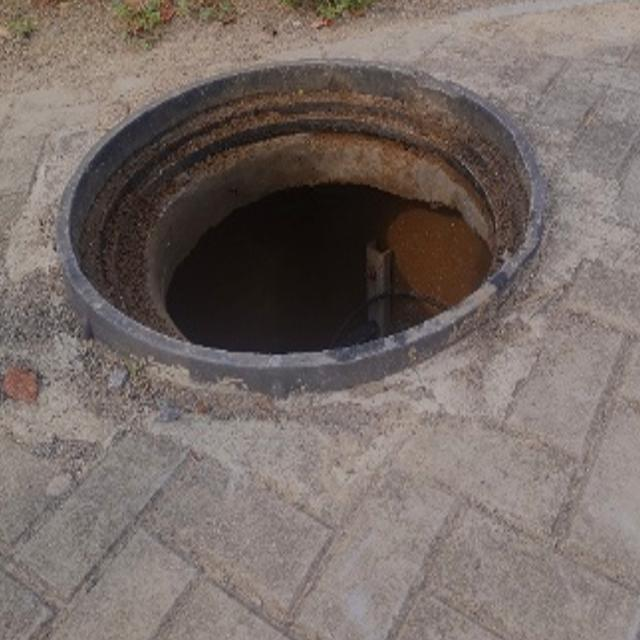lose: (57, 53, 547, 388)
